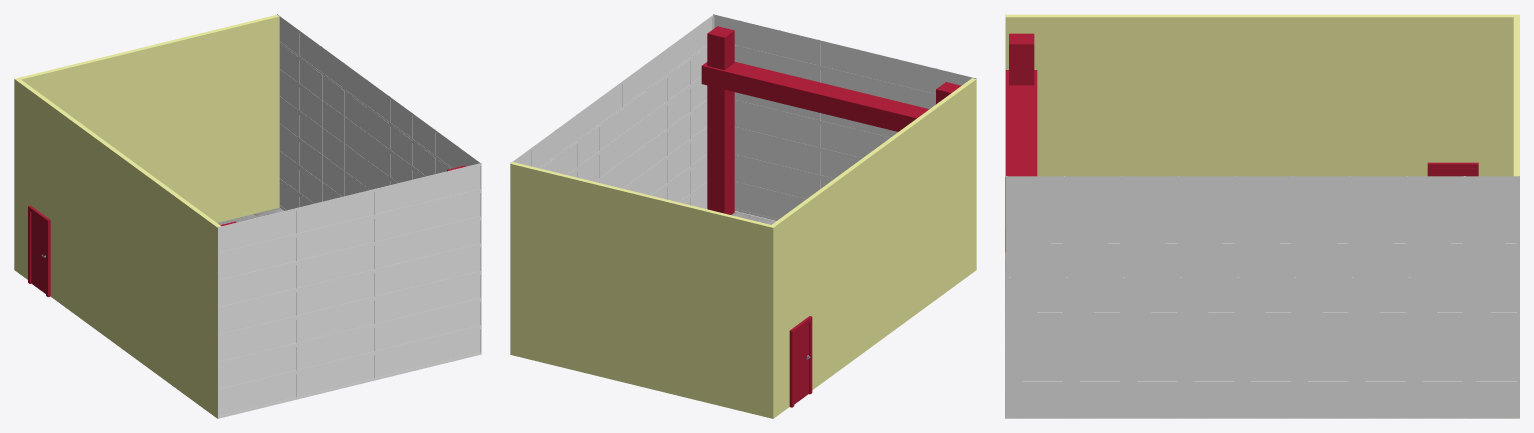
File: class.glb
3 views of the same model, side by side, from view 1: azimuth 30°, elevation 25°; view 2: azimuth 150°, elevation 25°; view 3: azimuth 270°, elevation 25° (orthographic). The views are drawn at different scales.
Parts seen in each view (by area): view 1: Wall1, Wall2, Window.R, Window.R.001, Window.R.005, Window.R.004, Window.R.006, Window.R.002, Window.R.003, Window.R.034, Window.R.046, Window.R.055 (+72 smaller); view 2: Wall2, Wall1, Support1, Support2, Window.R.060, Window.R.041, Window.R.056, Window.R.059, Window.R.034, Window.R.058, Window.R.046, Window.R.052 (+44 smaller); view 3: Wall1, Support1, Window.R.070, Window.R.027, Window.R.097, Window.R.023, Window.R.125, Window.R.025, Window.R.111, Window.R.104, Window.R.077, Window.R.112 (+56 smaller).
Part boxes in pixels (<box>): Wall1: <box>14,78,220,418</box>; Wall2: <box>16,15,279,222</box>; Window.R: <box>217,217,259,254</box>; Window.R.001: <box>217,381,259,418</box>; Window.R.005: <box>217,272,259,309</box>; Window.R.004: <box>217,299,259,336</box>; Window.R.006: <box>257,235,298,272</box>; Window.R.002: <box>217,354,259,390</box>; Window.R.003: <box>217,327,259,363</box>; Window.R.034: <box>257,207,298,244</box>; Window.R.046: <box>335,271,376,308</box>; Window.R.055: <box>374,207,415,243</box>; Wall2: <box>510,162,772,417</box>; Wall1: <box>769,78,976,418</box>; Support1: <box>701,62,929,131</box>; Support2: <box>707,26,734,214</box>; Window.R.060: <box>739,103,780,139</box>; Window.R.041: <box>857,49,898,86</box>; Window.R.056: <box>739,20,780,57</box>; Window.R.059: <box>739,130,780,166</box>; Window.R.034: <box>896,58,937,95</box>; Window.R.058: <box>739,157,780,194</box>; Window.R.046: <box>818,122,859,158</box>; Window.R.052: <box>779,140,819,177</box>; Wall1: <box>1005,14,1519,258</box>; Support1: <box>1005,70,1037,251</box>; Window.R.070: <box>1006,176,1065,211</box>; Window.R.027: <box>1006,383,1065,418</box>; Window.R.097: <box>1177,176,1237,211</box>; Window.R.023: <box>1006,245,1065,280</box>; Window.R.125: <box>1405,176,1465,211</box>; Window.R.025: <box>1006,314,1065,349</box>; Window.R.111: <box>1291,176,1351,211</box>; Window.R.104: <box>1234,176,1294,211</box>; Window.R.077: <box>1120,176,1180,211</box>; Window.R.112: <box>1348,176,1408,211</box>.
Bounding box in the file's own units: 30.73 × 21.07 × 40.54.
242 materials, 1 textured.
